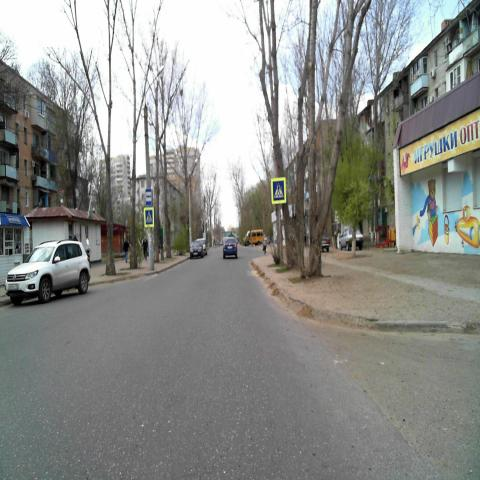5_16: (145, 188, 152, 204)
5_19_1: (272, 178, 286, 202), (144, 206, 154, 228)
